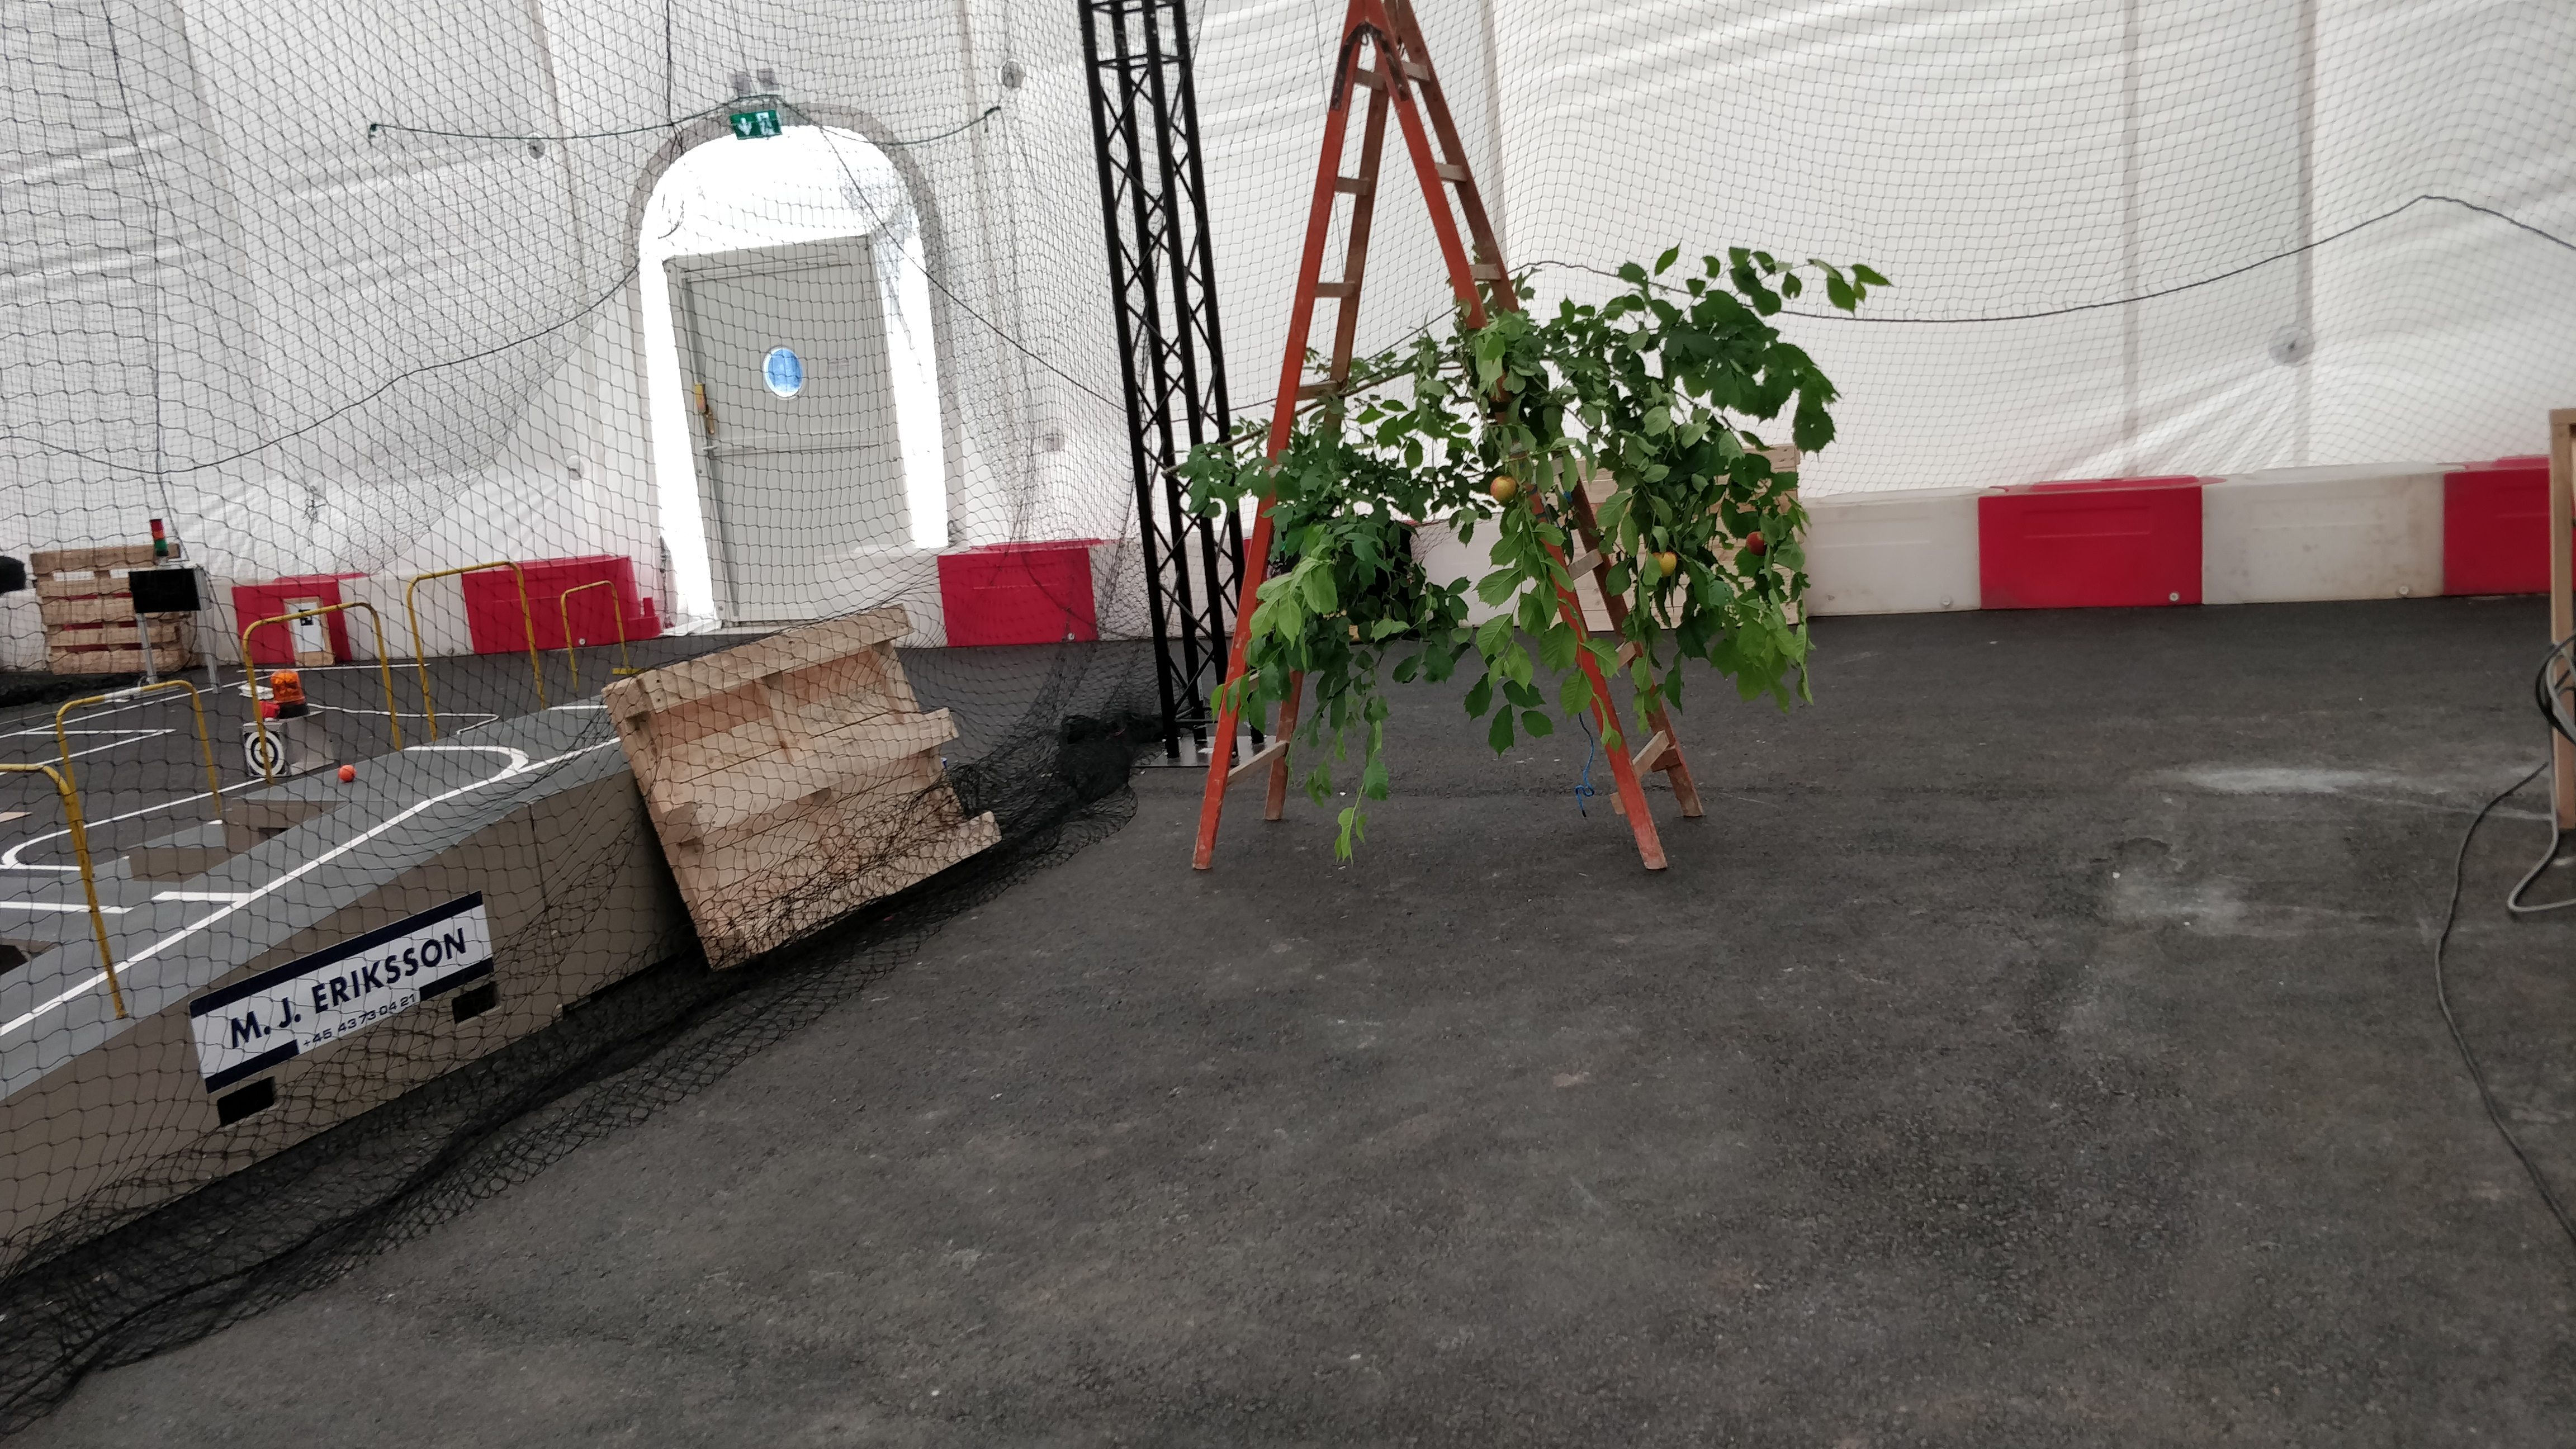apple: (1490, 478, 1516, 504), (1649, 552, 1677, 577), (1744, 531, 1767, 556)
